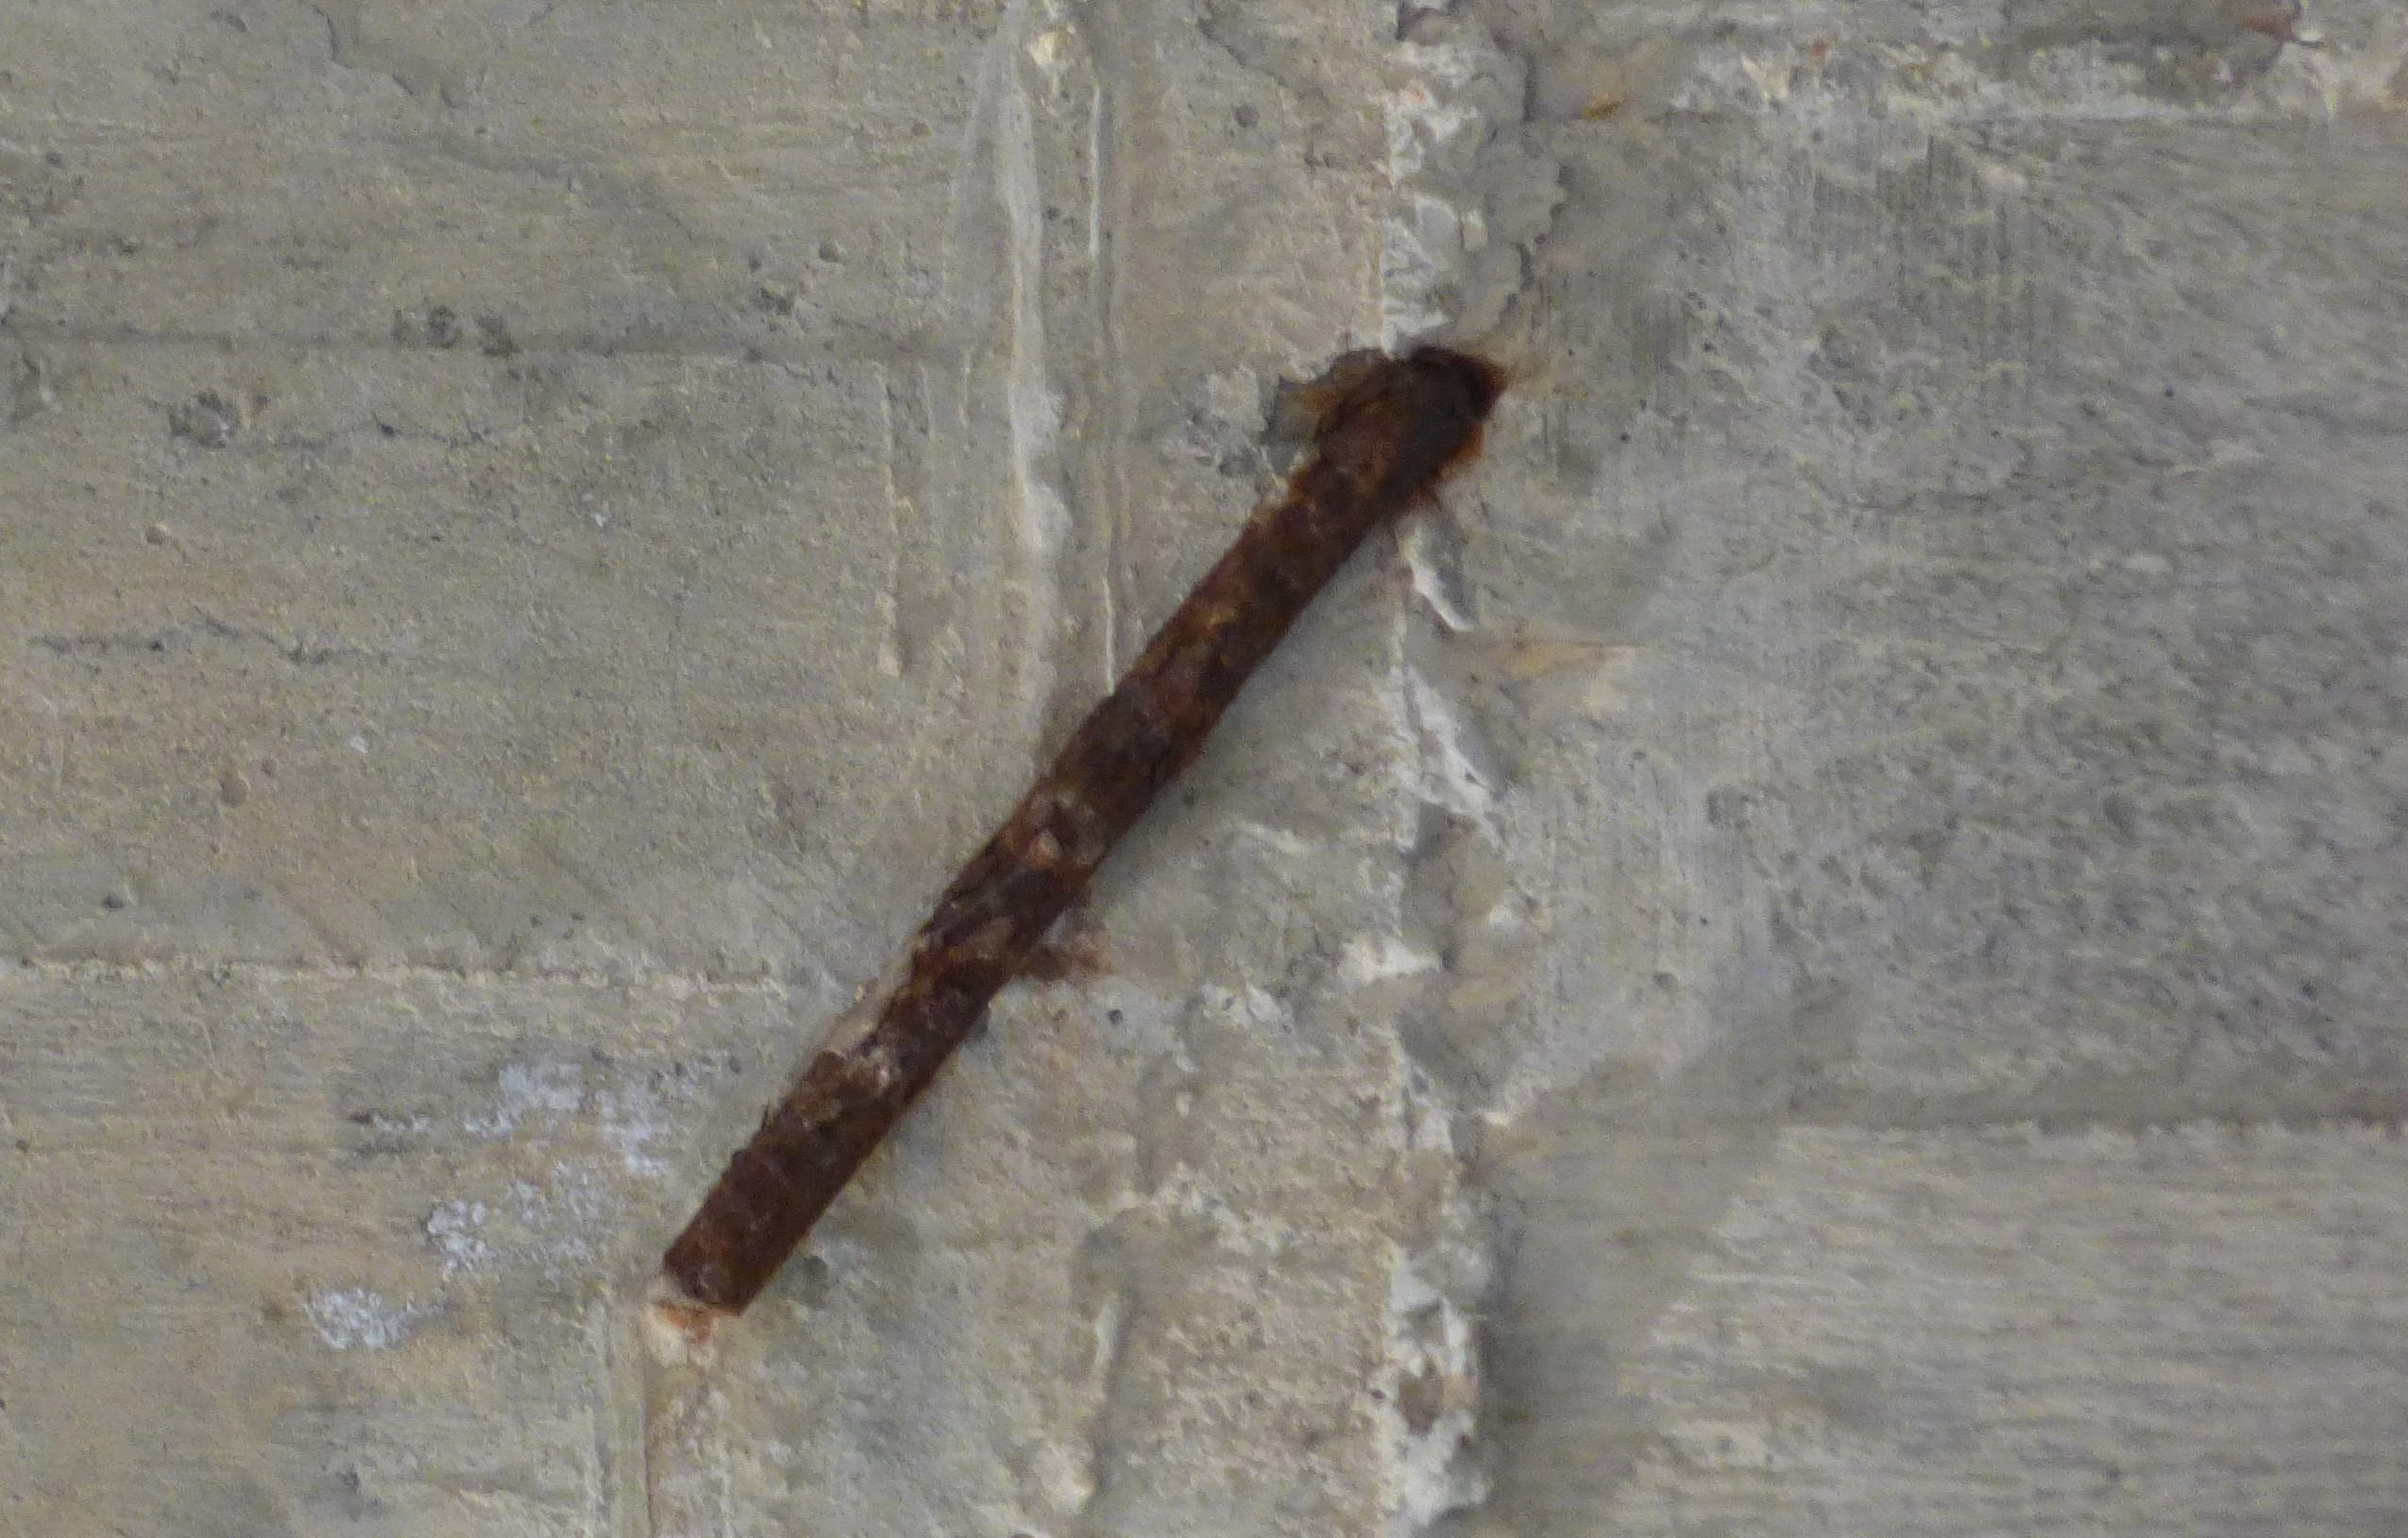Exposed reinforcement: (660, 351, 1499, 1319)
